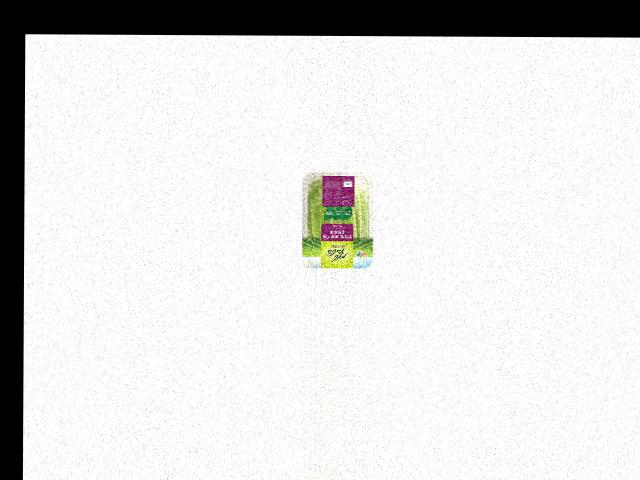lettuce: (301, 171, 374, 261)
